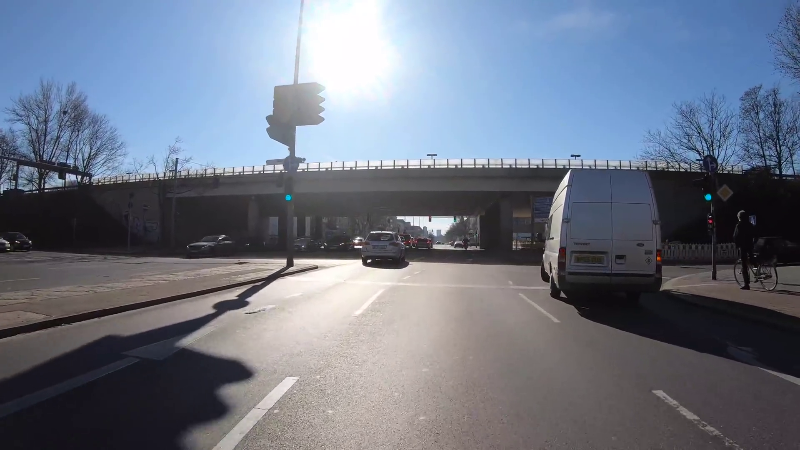Plate: (574, 253, 606, 266), (371, 243, 387, 250)
